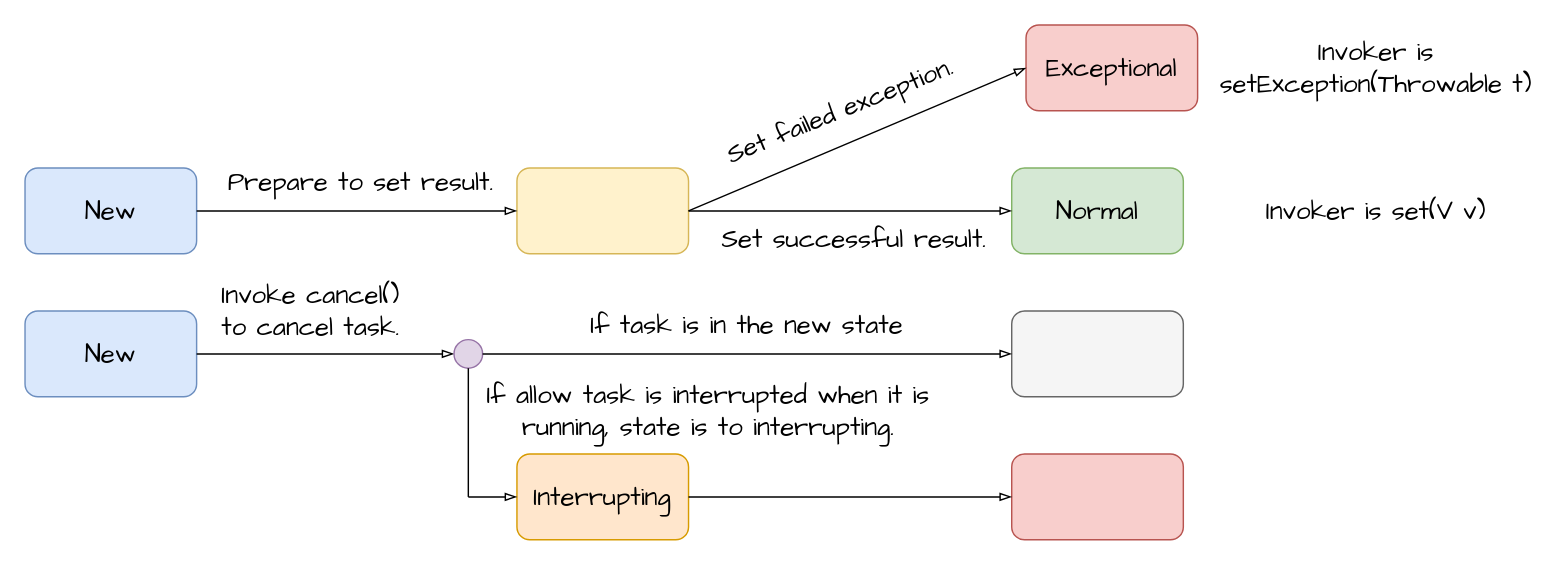
Some shapes in this 1566 by 565 pixel diagram are drawn without their labels. The shapes that lost their labels are listed below. From the top down, each one's centre as x and y in pixels, then its label:
At point (602, 210): "Completing".
At point (1096, 353): "Cancelled".
At point (1096, 496): "Interrupted".
